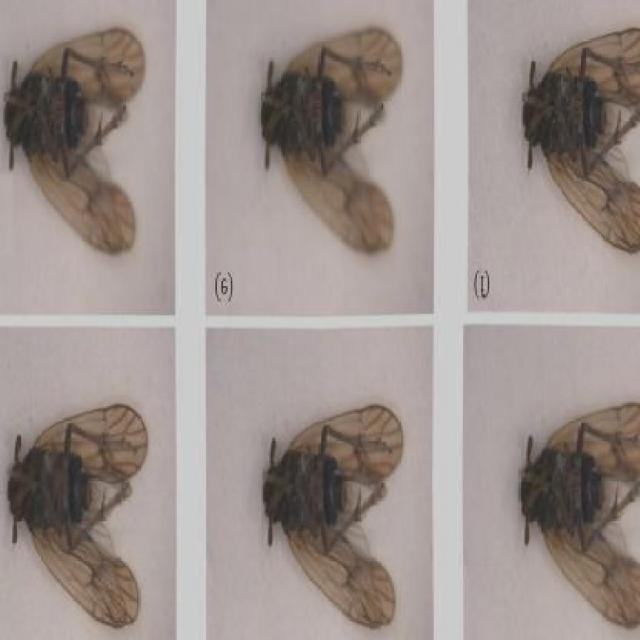brown-planthopper: (257, 22, 411, 258), (258, 398, 408, 631), (2, 23, 146, 262), (9, 391, 146, 629), (517, 378, 640, 640), (520, 18, 640, 255)
